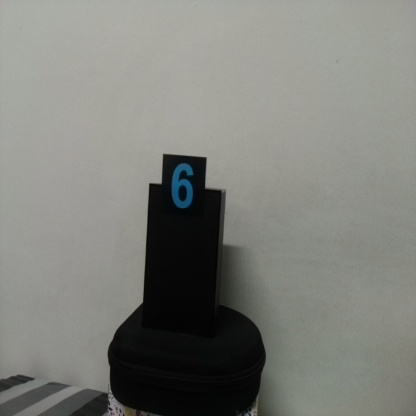id_6: (160, 155, 207, 228)
